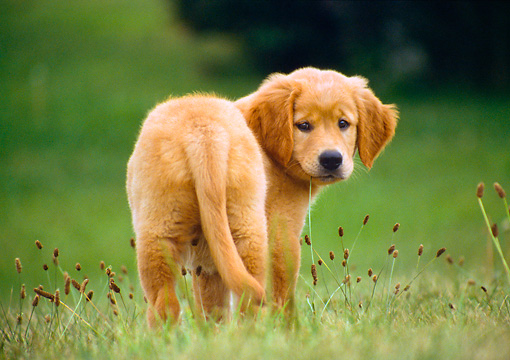dog: (123, 62, 404, 347)
